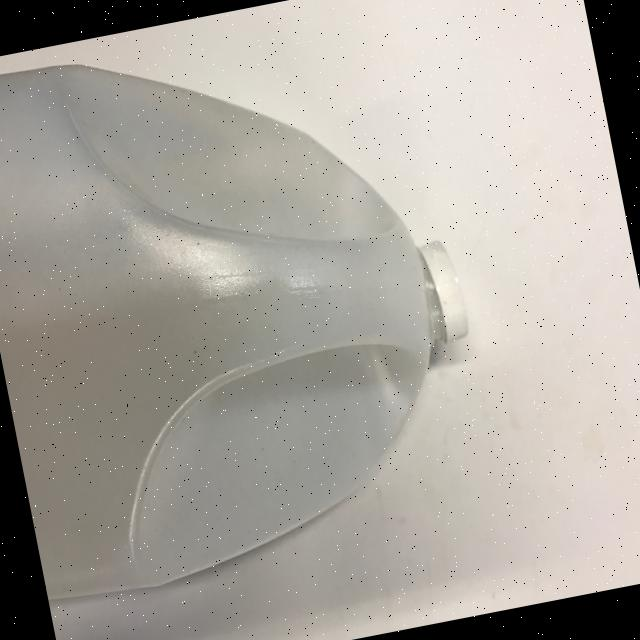plastic: (0, 0, 507, 607)
